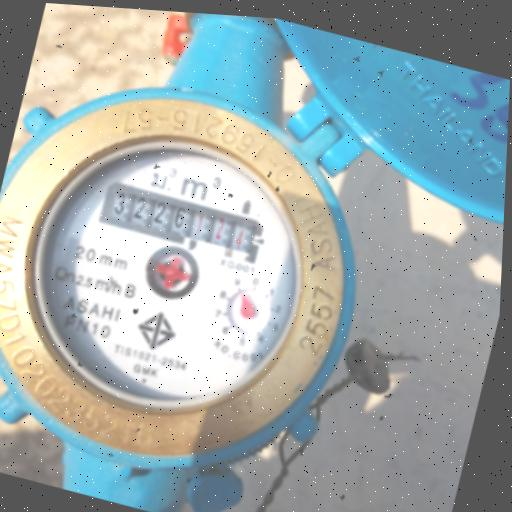1: (189, 210, 211, 241)
2: (149, 200, 171, 231), (129, 195, 150, 226), (209, 216, 231, 245)
3: (109, 189, 131, 221)
4: (230, 220, 251, 251)
6: (169, 205, 190, 235)
border_water_meter_number: (95, 179, 265, 266)
